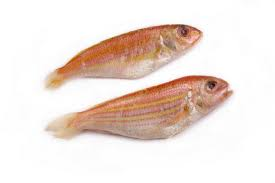Ikan Kerisi: (50, 67, 236, 152), (39, 13, 209, 79)
